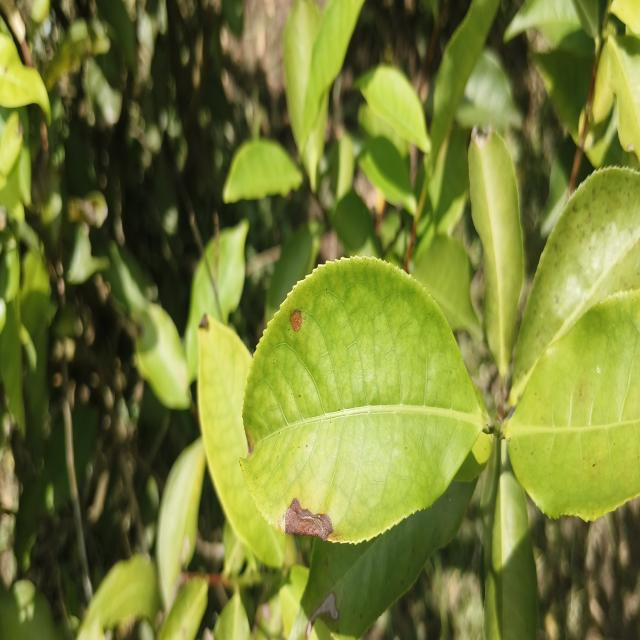Leaf: (241, 257, 486, 542), (505, 291, 640, 520), (511, 166, 640, 400), (289, 480, 476, 640), (197, 315, 286, 567), (468, 128, 524, 377), (481, 440, 537, 640), (431, 0, 499, 158), (185, 220, 249, 382), (283, 0, 328, 192), (302, 0, 364, 138), (156, 438, 205, 610), (412, 234, 481, 338), (417, 125, 470, 253), (354, 64, 430, 152), (79, 555, 161, 635), (133, 303, 191, 409), (0, 227, 28, 435), (455, 48, 522, 134), (266, 221, 322, 322), (532, 50, 593, 141), (223, 139, 302, 203), (504, 0, 594, 55), (0, 33, 51, 123), (359, 136, 416, 214), (607, 35, 640, 162), (0, 580, 61, 640), (330, 189, 380, 257), (159, 578, 208, 640), (85, 52, 122, 126), (72, 405, 98, 491), (45, 420, 69, 506), (213, 592, 251, 640)
